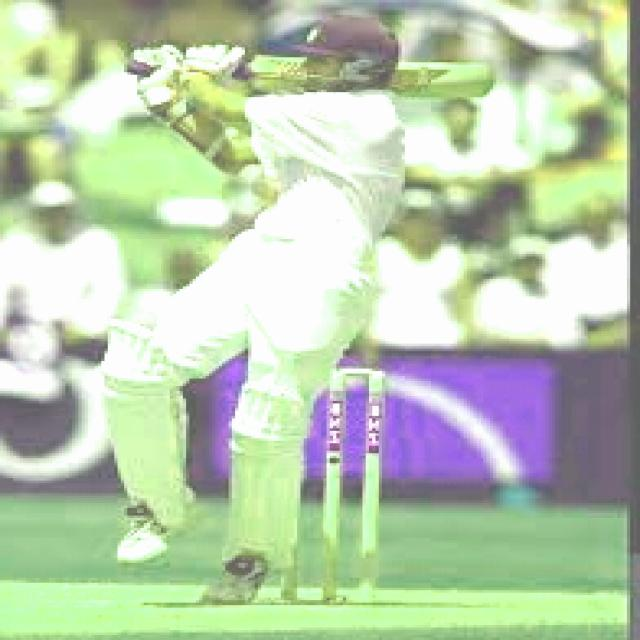toe: (474, 62, 498, 94)
